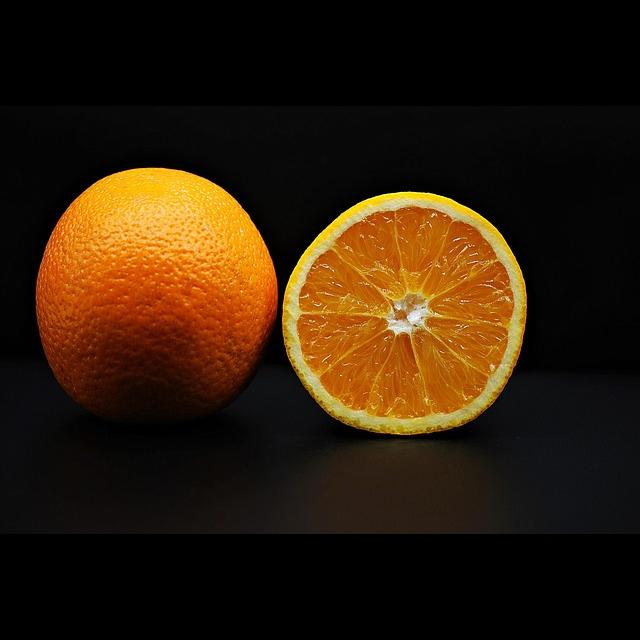orange: (22, 152, 282, 444), (274, 176, 541, 447)
